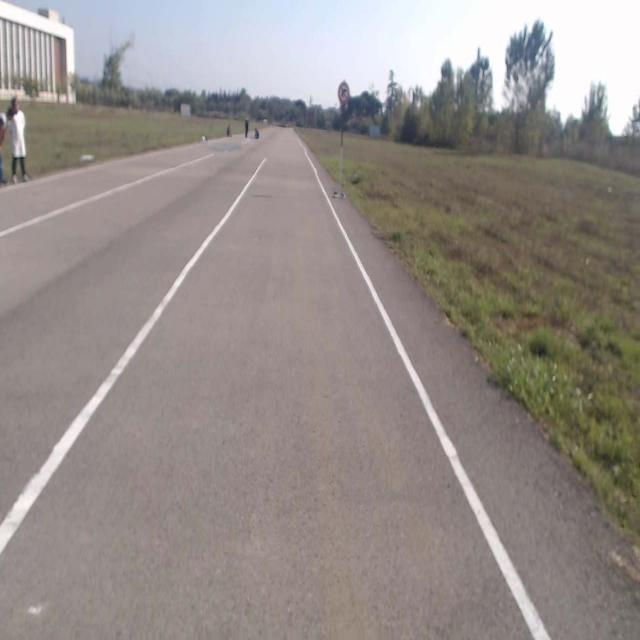sagadonulmez: (337, 81, 349, 103)
